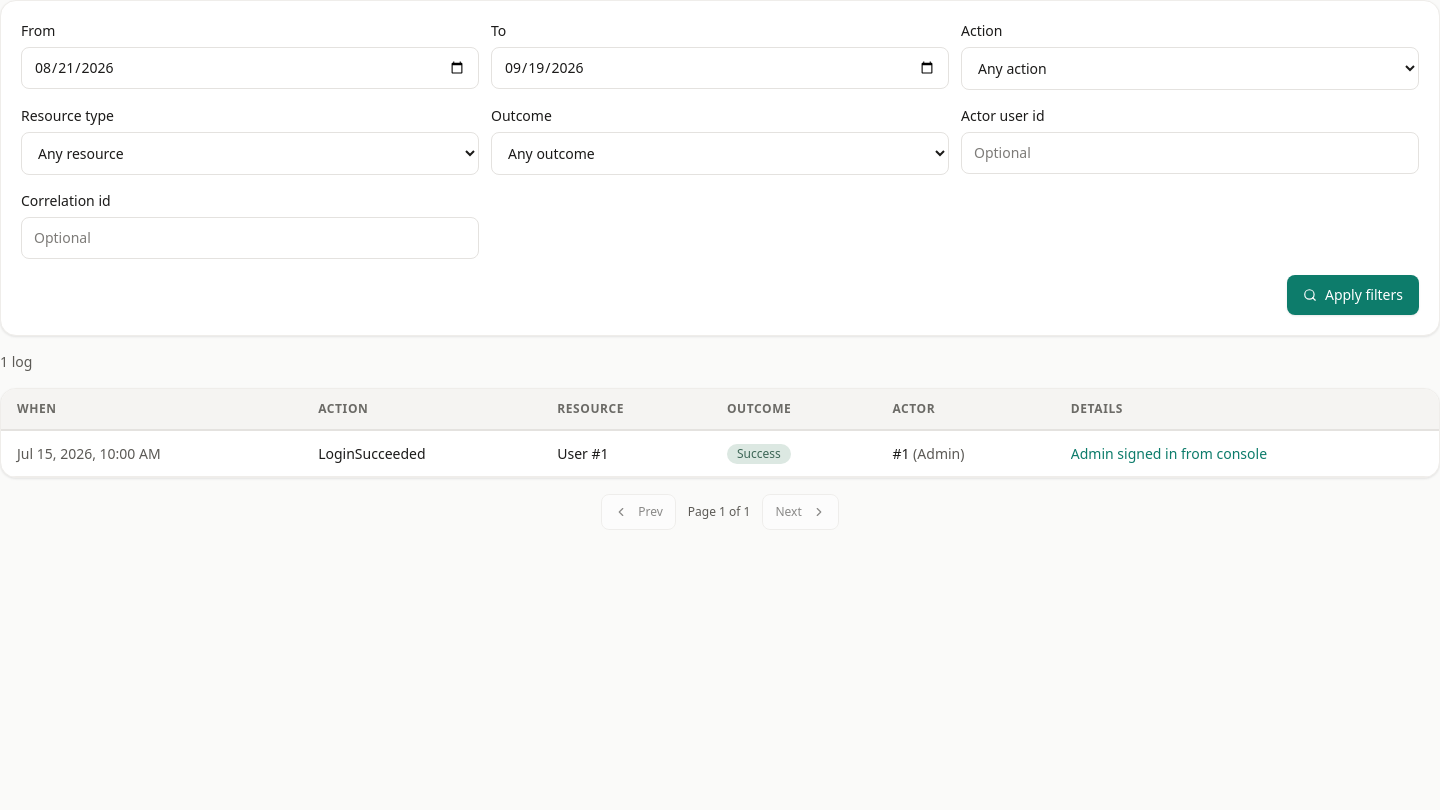
Test: AdminAuditLogsPanel › applies filters and opens detail modal
Expected: the table is shown, [1, 389, 1439, 477]
Select "LoginSucceeded" in the dropdown labelled "Action" at coordinates (1190, 68), box [961, 47, 1419, 90]
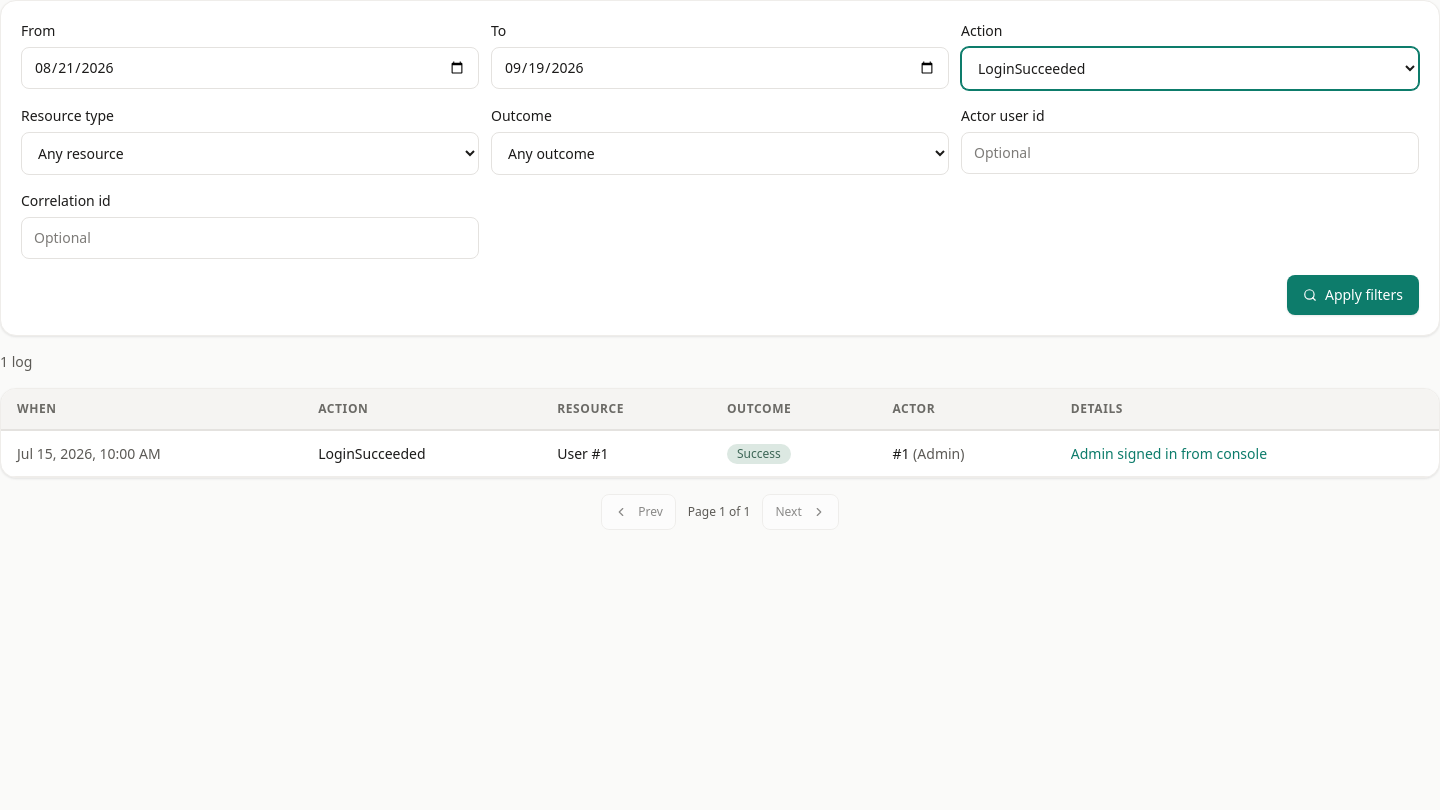
Click the button "Apply filters".
click(1353, 295)  # box [1287, 275, 1419, 315]
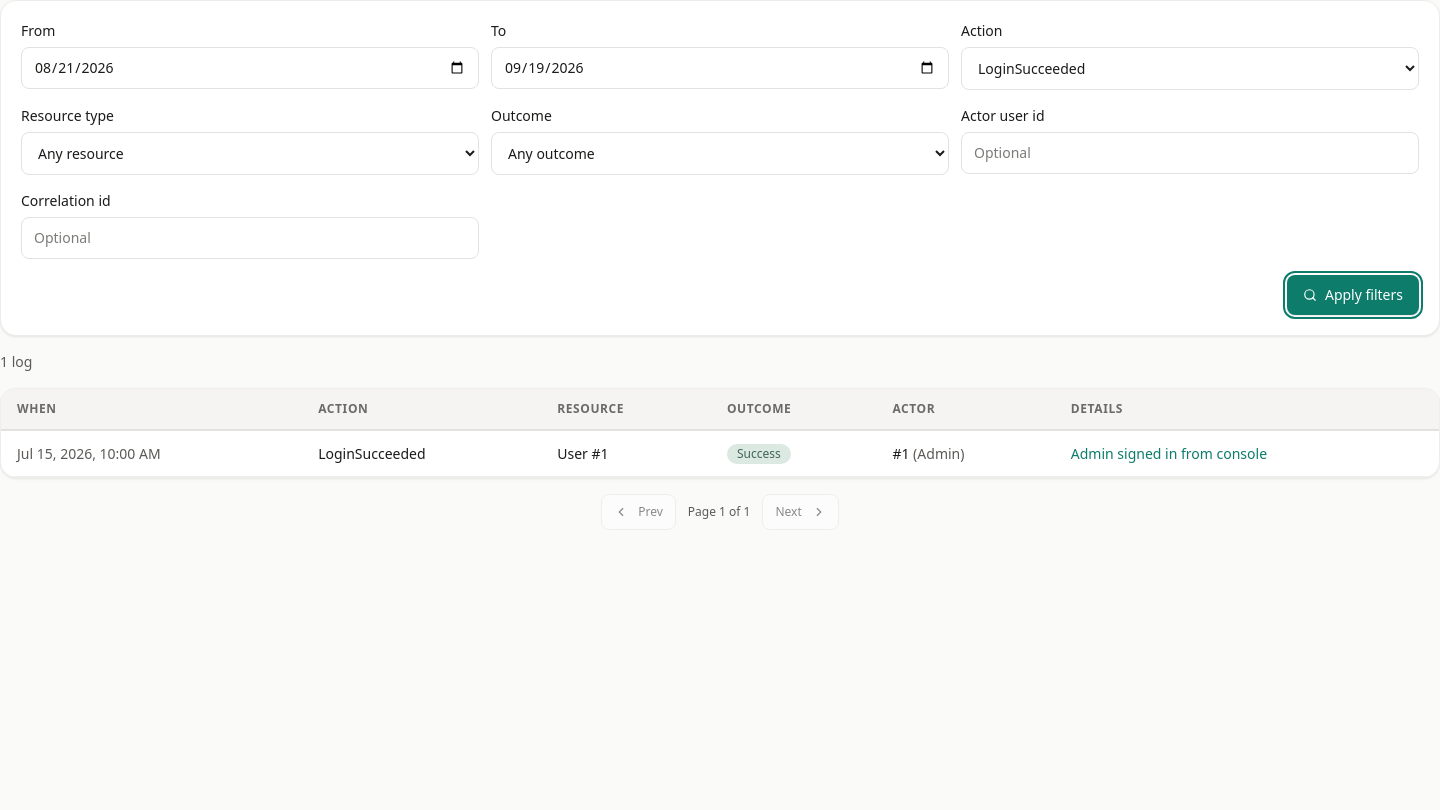
Click the button "Admin signed in from console".
click(1169, 454)  # box [1071, 444, 1267, 464]
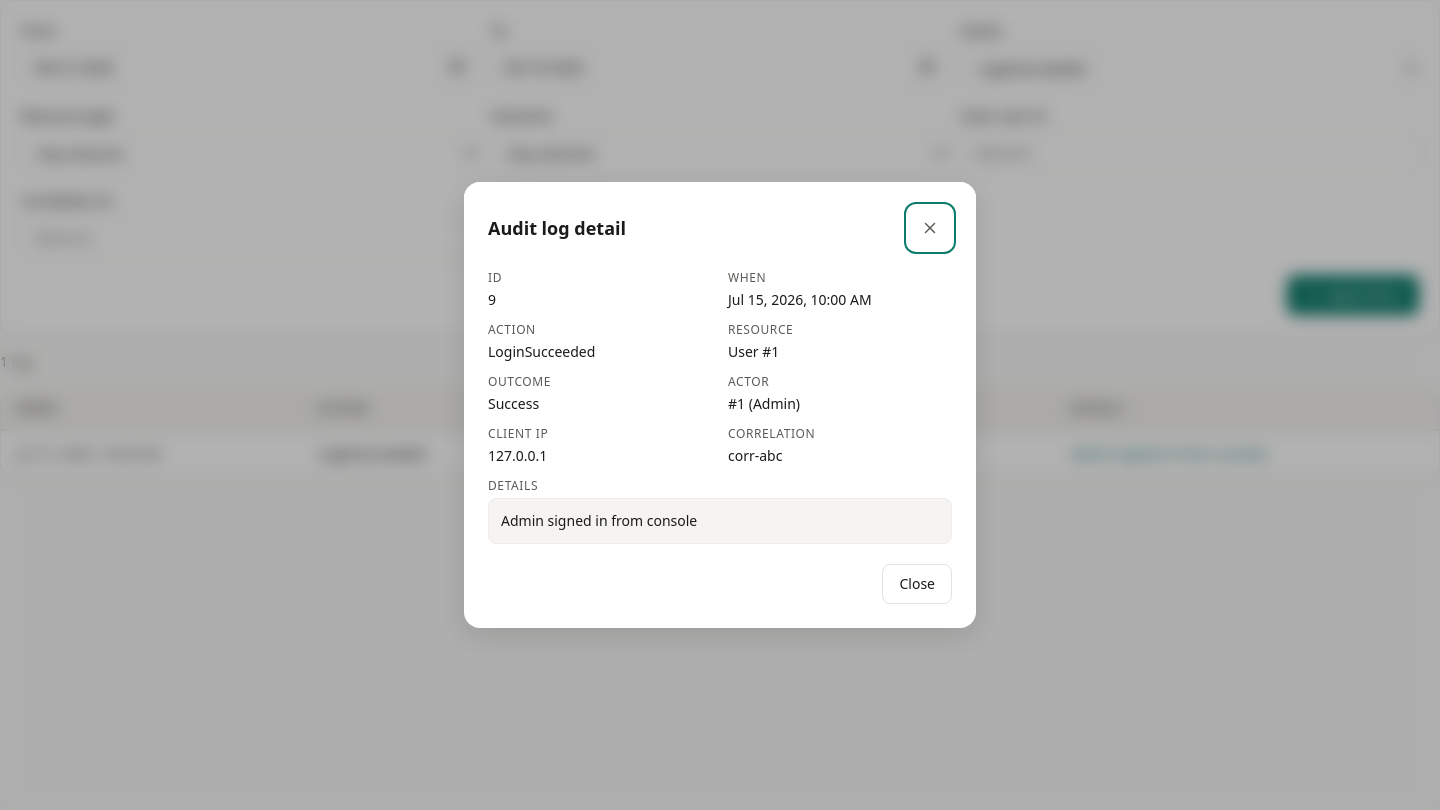
Expected: the heading "Audit log detail" is shown, [488, 214, 634, 242]
Expected: the text "corr-abc" is shown, [728, 446, 782, 465]
Expected: the text "127.0.0.1" is shown, [488, 446, 547, 465]
